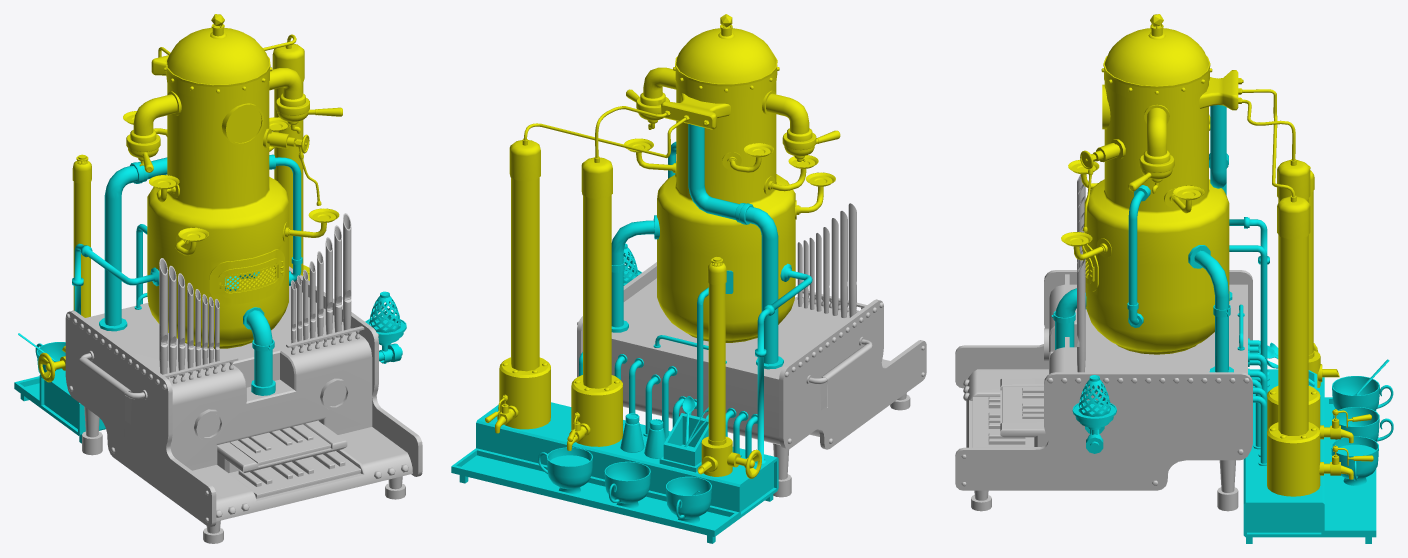
File: EspressoMachine.fbx
3 views of the same model, side by side, from view 1: azimuth 30°, elevation 25°; view 2: azimuth 150°, elevation 25°; view 3: azimuth 270°, elevation 25° (orthographic). The views are drawn at different scales.
Visible parts, largest first — view 1: Body, PianoEspressoMachineBody, PianoEspressoMachineSide_borad, PipesPipesEspressoMachinepipe10, Clock (×2), BodyUV_edBodyEspressoMachinetubesCoffeeTower1CoffeeTowers, PipesEspressoMachinedeskpCube14, towelPianoEspressoMachinepPlane1, PianoEspressoMachineKey_board2, BodyUV_edBodyEspressoMachineMilkTowertubesMilkGlass, BodyUV_edBodyEspressoMachinepolySurface17out2Outlets, PianoEspressoMachineKey_board (+25 smaller); view 2: Body, PipesEspressoMachinedeskpCube14, PianoEspressoMachineBody, PianoEspressoMachineSide_borad, BodyUV_edBodyEspressoMachinetubesCoffeeTowersCoffeeTower2, BodyUV_edBodyEspressoMachinetubesCoffeeTower1CoffeeTowers, PipesPipesEspressoMachinepipe10, BodyUV_edBodyEspressoMachineMilkTowertubesMilkGlass, towelPianoEspressoMachinepPlane1, PipesPipesEspressoMachinepipe34, PipesEspressoMachineSpoonsBox, PipesPipesEspressoMachinePipe4pipe4 (+18 smaller); view 3: Body, PianoEspressoMachineSide_borad, BodyUV_edBodyEspressoMachinetubesCoffeeTower1CoffeeTowers, PipesEspressoMachinedeskpCube14, PianoEspressoMachineBody, BodyUV_edBodyEspressoMachinetubesCoffeeTowersCoffeeTower2, PipesPipesEspressoMachinePipe4pipe4, BodyUV_edBodyEspressoMachineOutletspolySurface17out4, PipesEspressoMachineCupsTeaCupCoffeeSetCup2, PipesPipesEspressoMachinepipe3, PipesPipesEspressoMachinepipe34, Copper (+17 smaller).
Boxes of the visible parts, box(x1,y1,x2,y2) form: Body: box(147, 24, 288, 348); PianoEspressoMachineBody: box(85, 286, 412, 521); PianoEspressoMachineSide_borad: box(65, 266, 422, 527); PipesPipesEspressoMachinepipe10: box(99, 161, 148, 331); Clock (×2): box(194, 103, 350, 440); BodyUV_edBodyEspressoMachinetubesCoffeeTower1CoffeeTowers: box(272, 44, 309, 280); PipesEspressoMachinedeskpCube14: box(14, 369, 105, 435); towelPianoEspressoMachinepPlane1: box(79, 357, 131, 436); PianoEspressoMachineKey_board2: box(229, 451, 360, 498); BodyUV_edBodyEspressoMachineMilkTowertubesMilkGlass: box(73, 181, 90, 317); BodyUV_edBodyEspressoMachinepolySurface17out2Outlets: box(126, 91, 181, 151); PianoEspressoMachineKey_board: box(217, 420, 347, 472); Body: box(657, 24, 795, 342); PipesEspressoMachinedeskpCube14: box(451, 402, 778, 536); PianoEspressoMachineBody: box(611, 278, 889, 445); PianoEspressoMachineSide_borad: box(577, 262, 926, 449); BodyUV_edBodyEspressoMachinetubesCoffeeTowersCoffeeTower2: box(571, 156, 622, 446); BodyUV_edBodyEspressoMachinetubesCoffeeTower1CoffeeTowers: box(499, 139, 550, 429); PipesPipesEspressoMachinepipe10: box(735, 203, 783, 369); BodyUV_edBodyEspressoMachineMilkTowertubesMilkGlass: box(708, 283, 725, 441); towelPianoEspressoMachinepPlane1: box(820, 344, 872, 410); PipesPipesEspressoMachinepipe34: box(688, 124, 739, 219); PipesEspressoMachineSpoonsBox: box(659, 413, 708, 472); PipesPipesEspressoMachinePipe4pipe4: box(611, 215, 659, 332); Body: box(1084, 24, 1229, 354); PianoEspressoMachineSide_borad: box(955, 270, 1252, 490); BodyUV_edBodyEspressoMachinetubesCoffeeTower1CoffeeTowers: box(1267, 195, 1320, 496); PipesEspressoMachinedeskpCube14: box(1243, 369, 1376, 537); PianoEspressoMachineBody: box(966, 284, 1247, 447); BodyUV_edBodyEspressoMachinetubesCoffeeTowersCoffeeTower2: box(1267, 159, 1320, 429); PipesPipesEspressoMachinePipe4pipe4: box(1188, 245, 1233, 372); BodyUV_edBodyEspressoMachineOutletspolySurface17out4: box(1139, 104, 1174, 172); PipesEspressoMachineCupsTeaCupCoffeeSetCup2: box(1332, 376, 1393, 410); PipesPipesEspressoMachinepipe3: box(1127, 185, 1150, 327); PipesPipesEspressoMachinepipe34: box(1210, 105, 1226, 188); Copper: box(1104, 67, 1209, 101).
Size of the model in its own units: 98.56 by 141 by 125.
